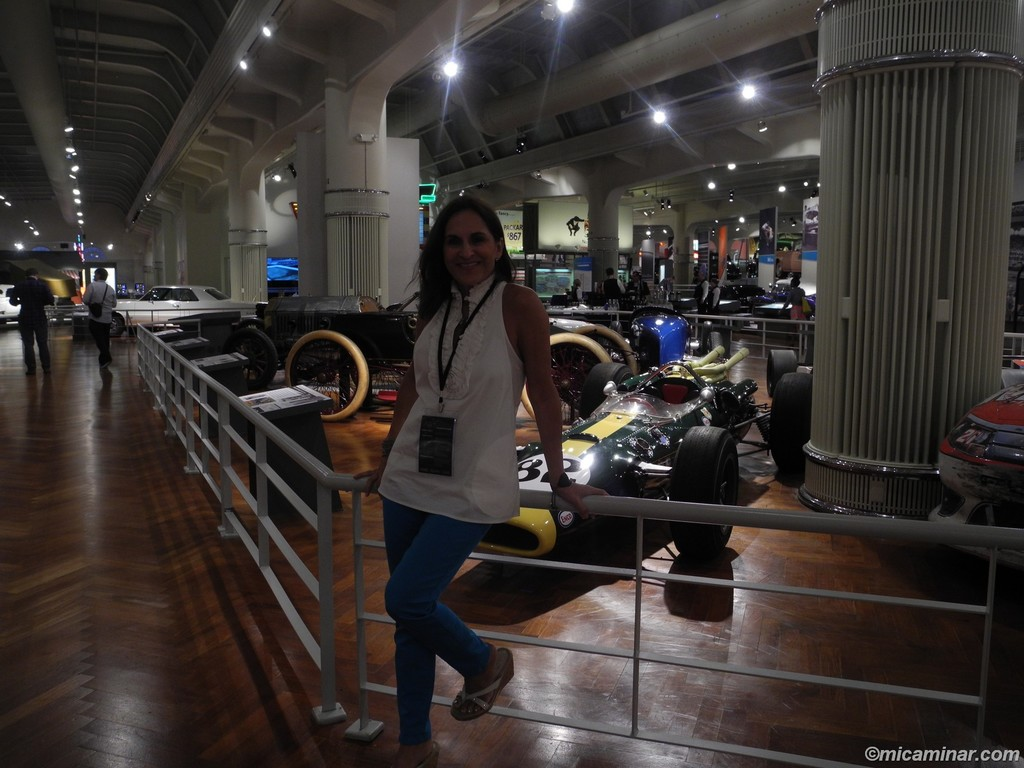Footwear: (450, 647, 512, 748), (382, 741, 440, 767), (41, 362, 54, 371), (25, 368, 35, 376), (100, 358, 111, 365)
